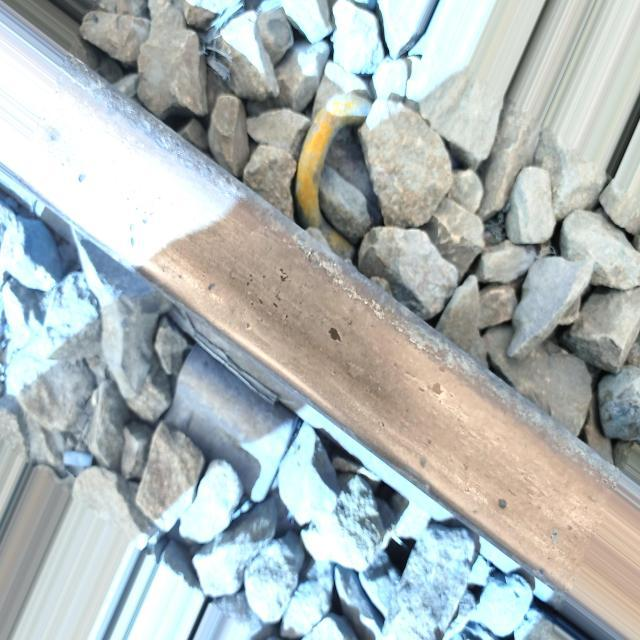Good Fasteners: (295, 94, 366, 262)
Missing Fastener: (164, 344, 298, 501)
